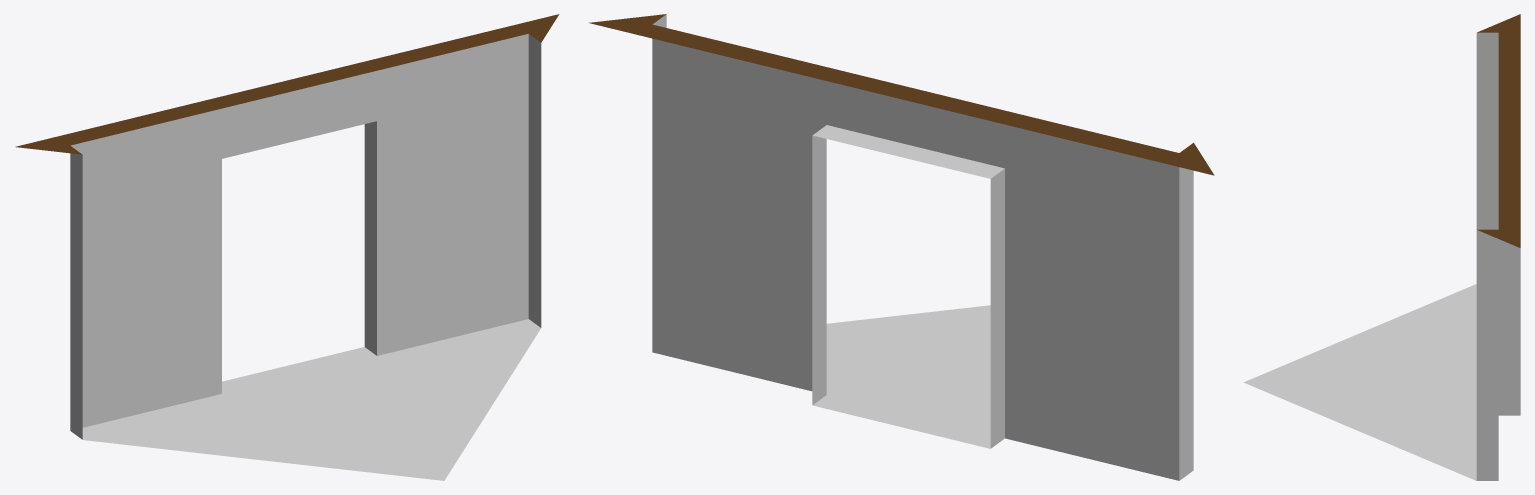
The model's file is Door.fbx.
The picture shows the model from 3 angles, left to right: view 1: azimuth 30°, elevation 25°; view 2: azimuth 150°, elevation 25°; view 3: azimuth 270°, elevation 25°; orthographic projection. The views are drawn at different scales.
Parts seen in each view (by area): view 1: Door; view 2: Door; view 3: Door.
Boxes of the visible parts, x1=… form: Door: x1=15, y1=14, x2=559, y2=480; Door: x1=589, y1=14, x2=1214, y2=480; Door: x1=1243, y1=14, x2=1520, y2=480.
Bounding box in the file's own units: 400 × 200 × 200.
